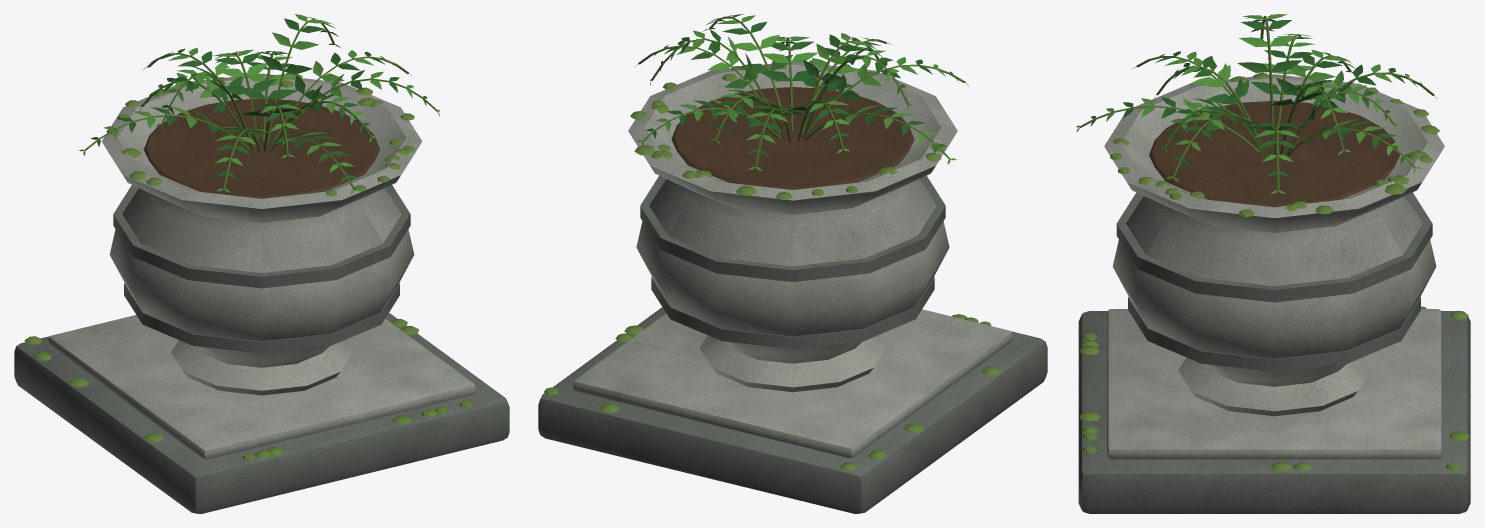
Rendered from big_pot.glb.
3 renders of one model, left to right at view 1: azimuth 30°, elevation 25°; view 2: azimuth 150°, elevation 25°; view 3: azimuth 270°, elevation 25°, orthographic. The views are drawn at different scales.
Parts seen in each view (by area): view 1: BigPotBody; view 2: BigPotBody; view 3: BigPotBody.
Boxes of the visible parts, left/top/right/bottom form: BigPotBody: left=14, top=14, right=509, bottom=513; BigPotBody: left=538, top=14, right=1047, bottom=513; BigPotBody: left=1076, top=14, right=1470, bottom=513.
Bounding box in the file's own units: 0.7091 × 0.746 × 0.6938.
7 materials, 3 textured.
